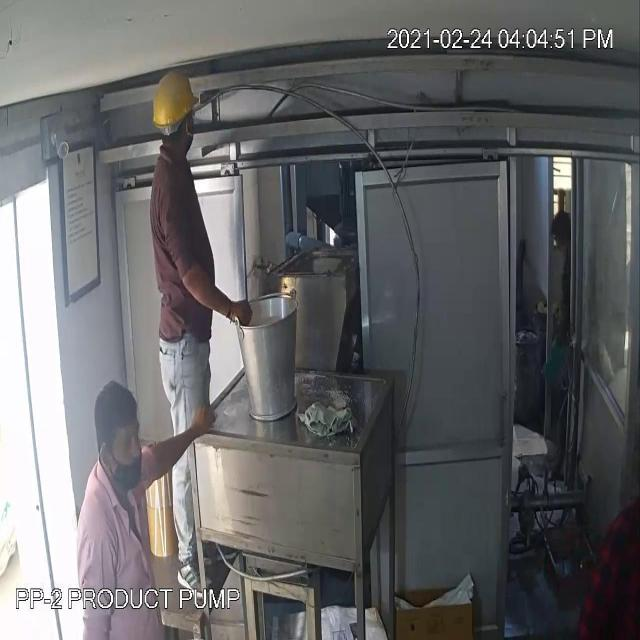helmet: (146, 63, 202, 143)
no-helmet: (87, 371, 147, 455)
